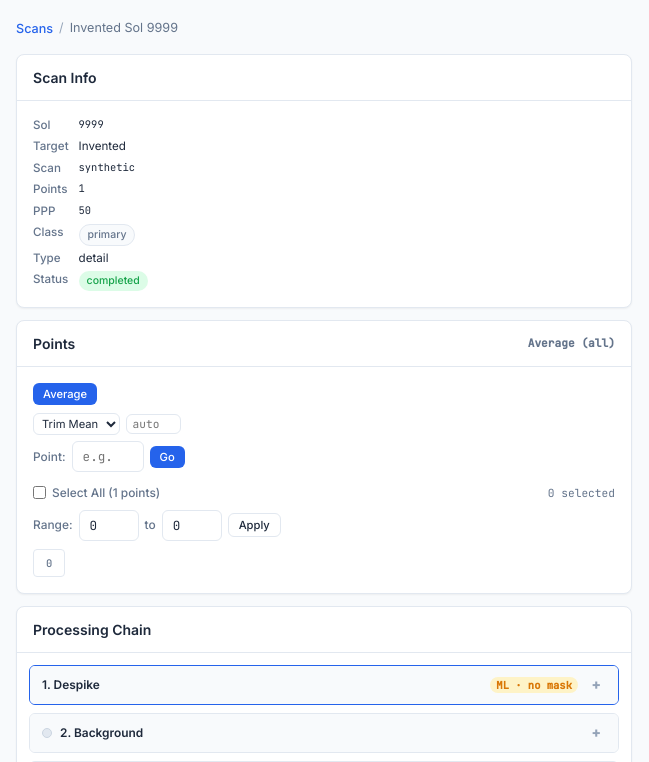
Scenario: clears export state when the committed selection has no spectrum
Check: the text "1. Despike" is shown, box top-left (42, 677), bottom-right (100, 692)
What coordinates should you click on to do the following:
click the button "0"
I would click on:
 (49, 563)
Its box is top-left (33, 549), bottom-right (65, 577).
(page scrolled)
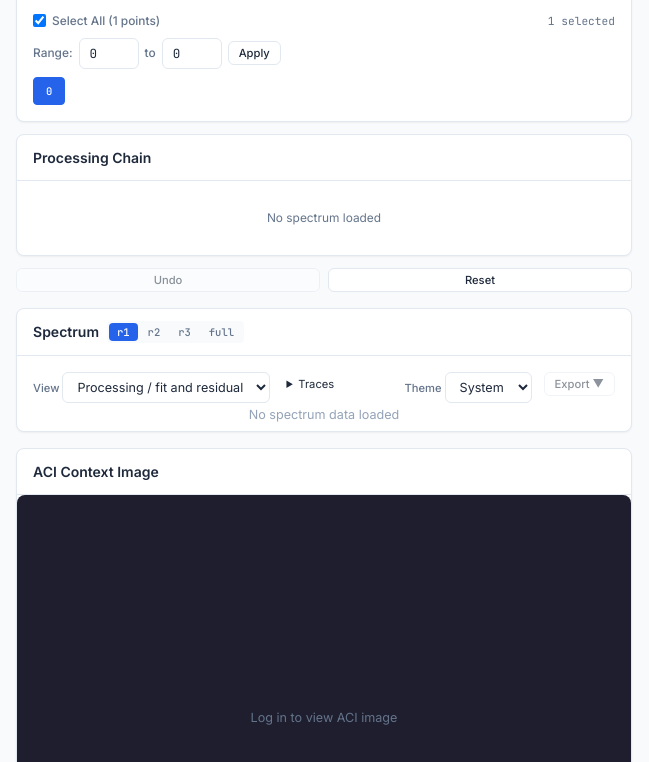
Check: the button with class "export-trigger" is disabled, box top-left (544, 372), bottom-right (615, 396)
